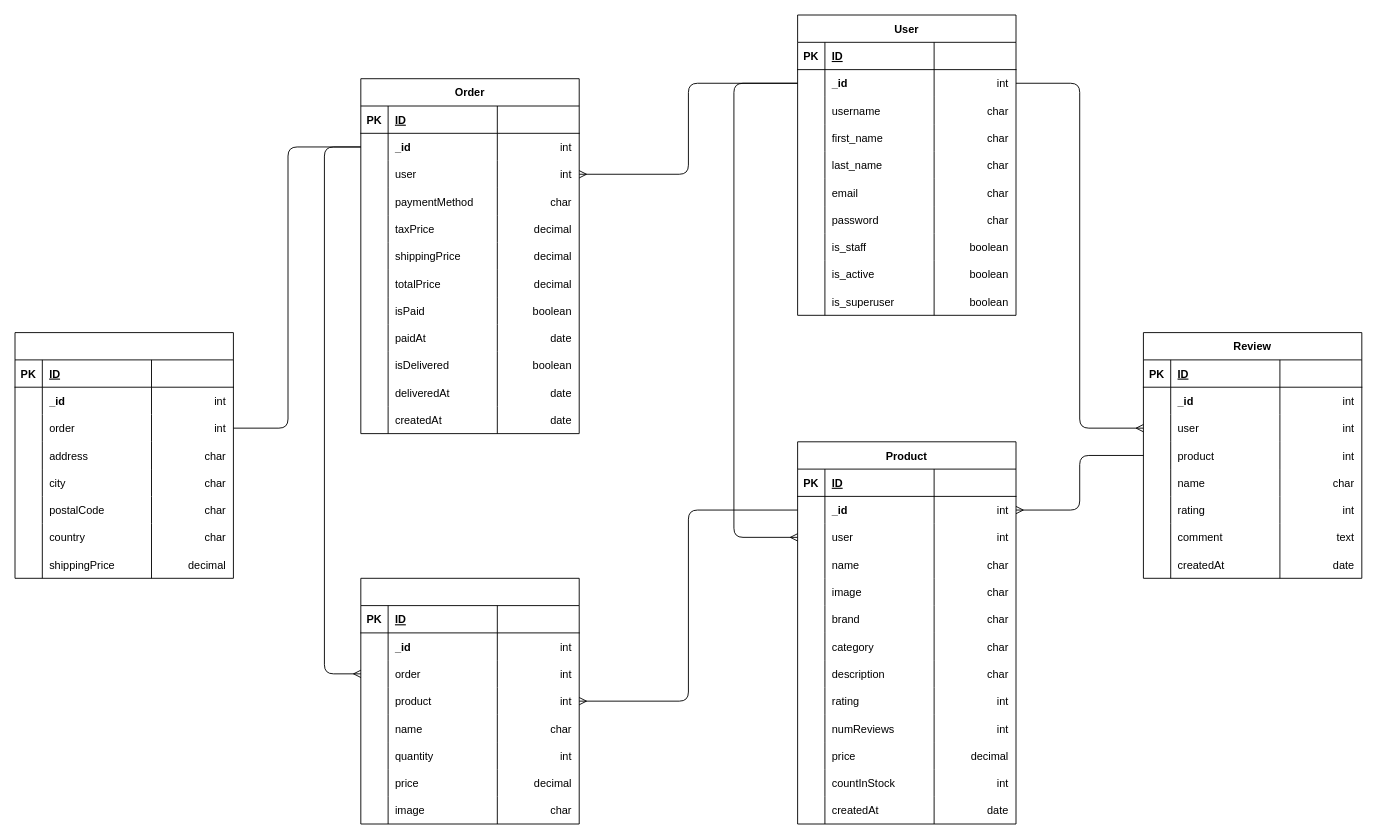
Some shapes in this 1377 by 839 pixel diagram are drawn without their labels. Here are the shapes that lost their labels. From the top down, the box of each, then its label:
(14, 332, 233, 578): ShippingAddress
(360, 577, 579, 824): OrderItem
